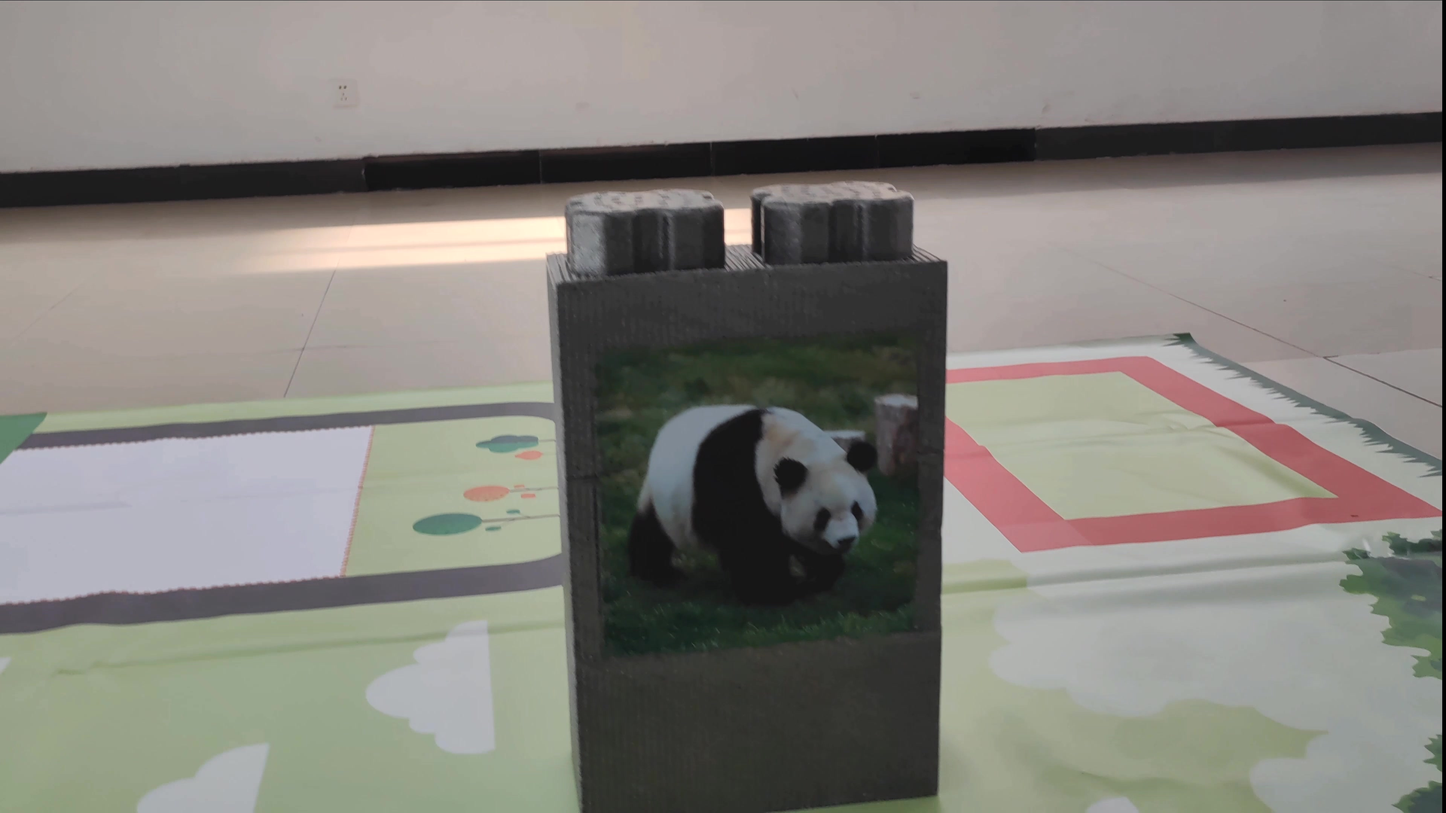panda: (627, 379, 909, 631)
